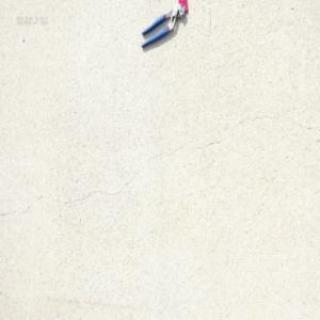LuggageTagtrack_idkeyframe: (177, 0, 191, 21)
Pliertrack_idkeyframe: (140, 2, 184, 48)
